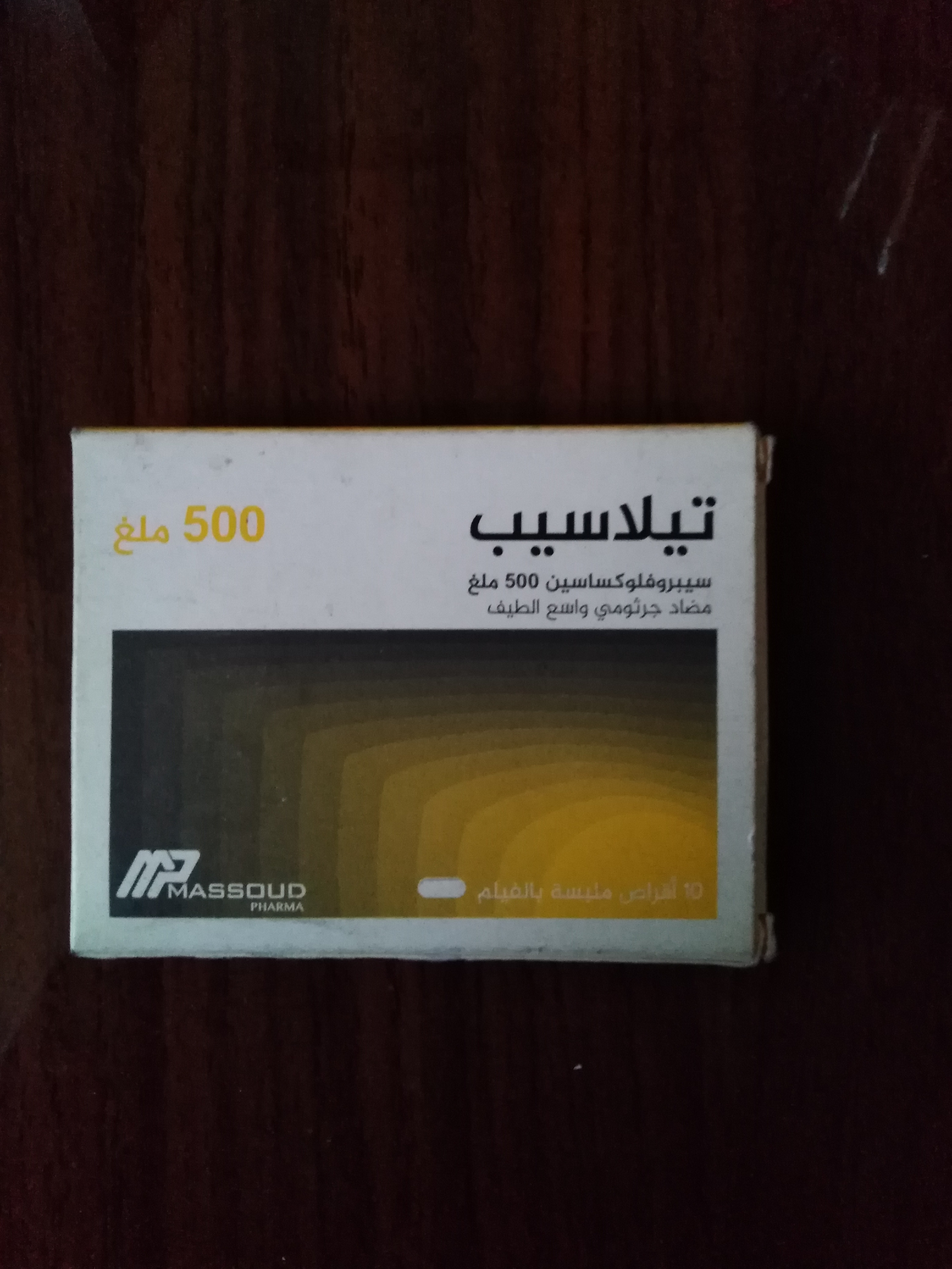Medicine: (35, 412, 777, 983)
